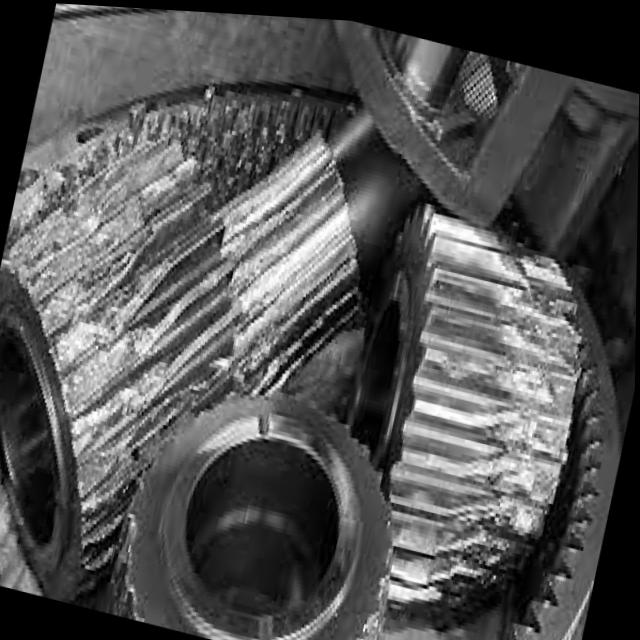Fault-Exist: (0, 73, 398, 639), (0, 105, 241, 587), (444, 239, 608, 638)
